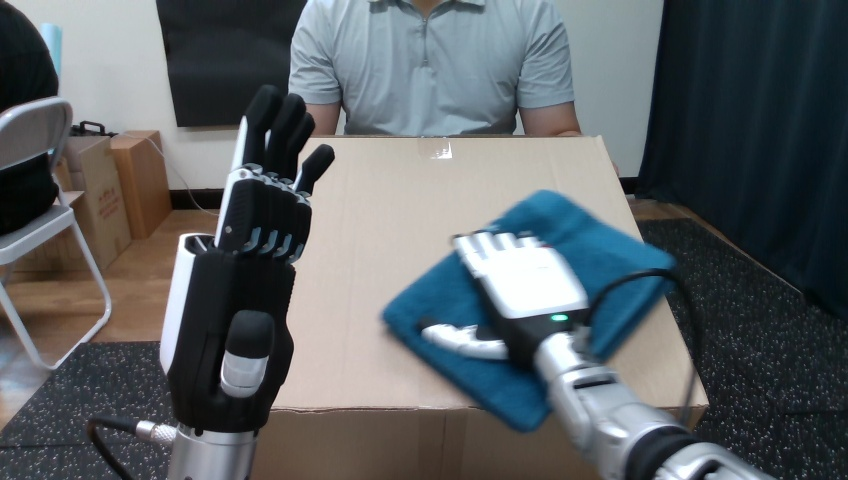left robot hand: (87, 85, 334, 479), (422, 231, 771, 479)
